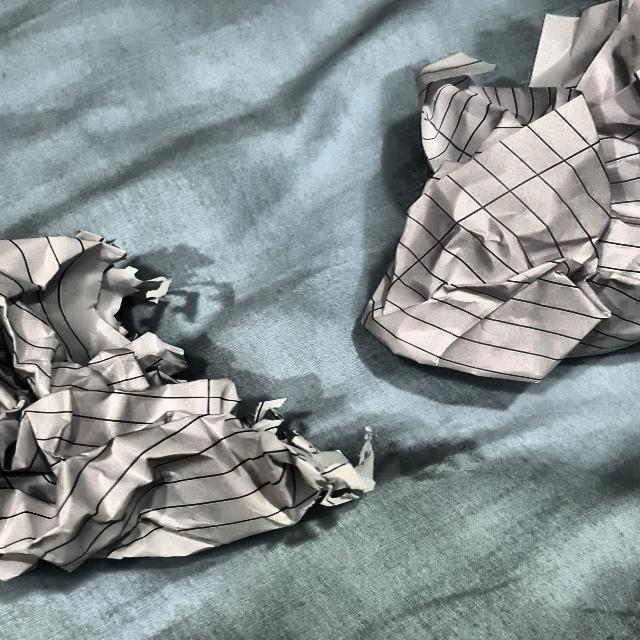paper: (0, 239, 286, 586), (380, 0, 640, 373)
